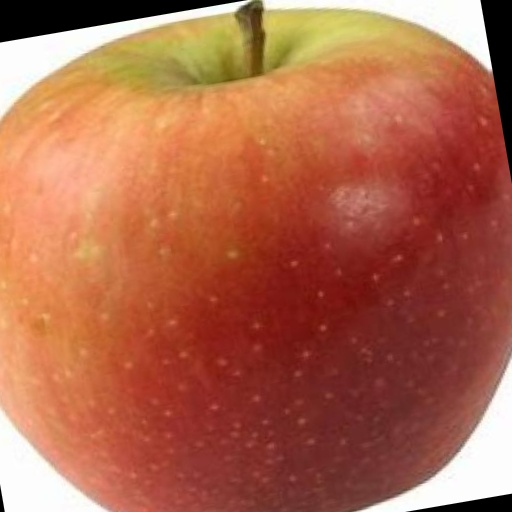fruit: (0, 3, 512, 512)
